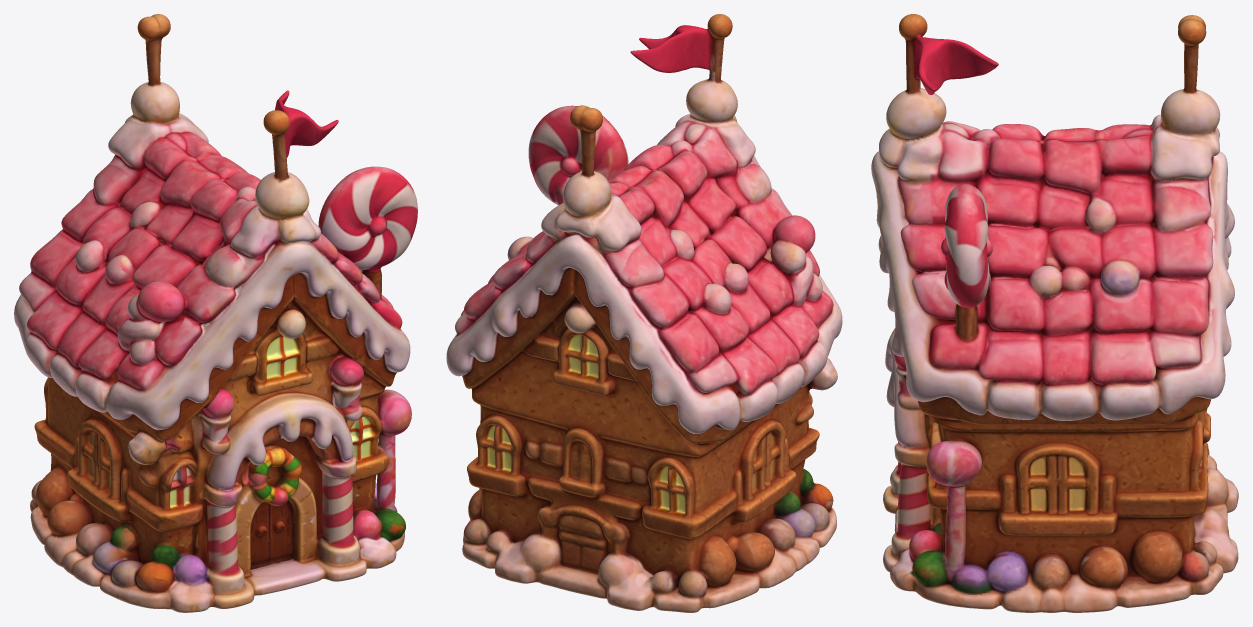
File: Meshy_AI_Candy_Cane_Cottage_20261104_texture.fbx
3 renders of one model, left to right at view 1: azimuth 30°, elevation 25°; view 2: azimuth 150°, elevation 25°; view 3: azimuth 270°, elevation 25°, orthographic. The views are drawn at different scales.
Parts seen in each view (by area): view 1: Mesh_0; view 2: Mesh_0; view 3: Mesh_0.
Part boxes in pixels (x1,y1,x2,y2): Mesh_0: [14, 14, 417, 612]; Mesh_0: [446, 14, 842, 612]; Mesh_0: [871, 14, 1238, 612].
Size of the model in its own units: 131 by 190 by 122.
1 material, 1 textured.
